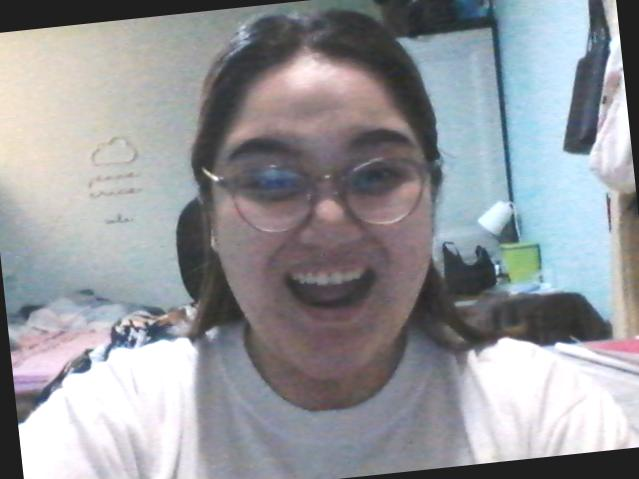senang: (184, 60, 450, 384)
